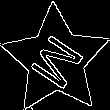M_SE: (23, 27, 89, 93)
